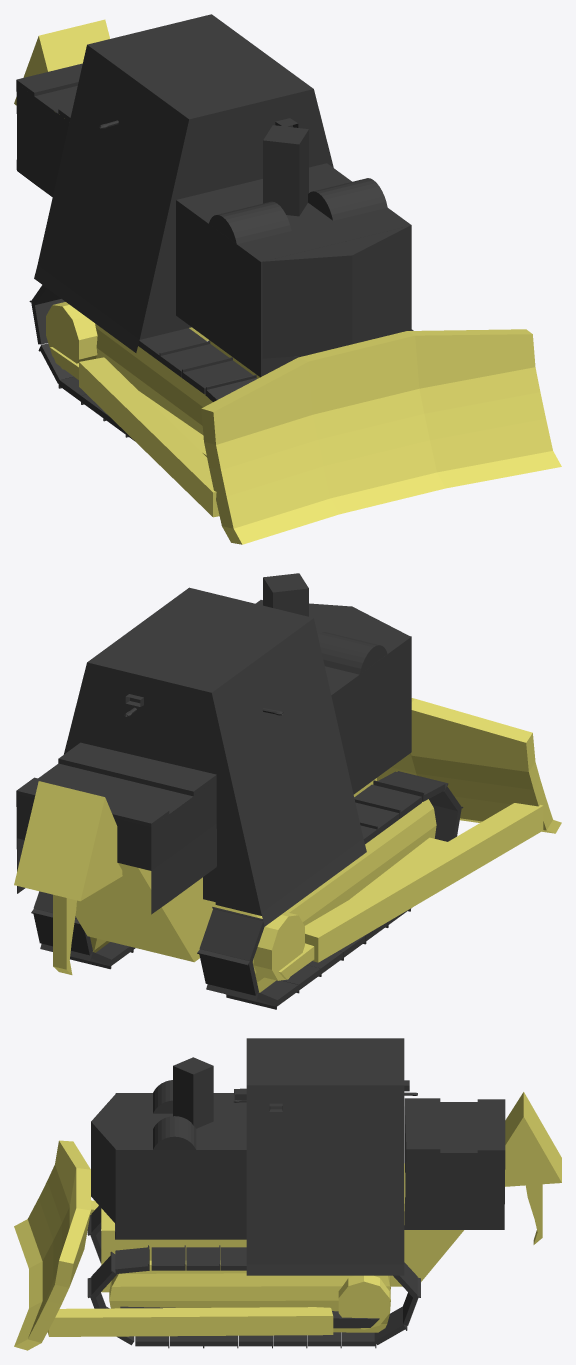
The model's file is dozerpozer.fbx.
3 views of the same model, one above another, from view 1: azimuth 30°, elevation 25°; view 2: azimuth 150°, elevation 25°; view 3: azimuth 270°, elevation 25° (orthographic). The views are drawn at different scales.
Visible parts, largest first — view 1: Cylinder; view 2: Cylinder; view 3: Cylinder.
Boxes of the visible parts, x1,y1,x2,y2 form: Cylinder: (14, 14, 561, 544); Cylinder: (14, 573, 561, 1009); Cylinder: (14, 1038, 561, 1350).
Size of the model in its own units: 730 by 679 by 1371.
